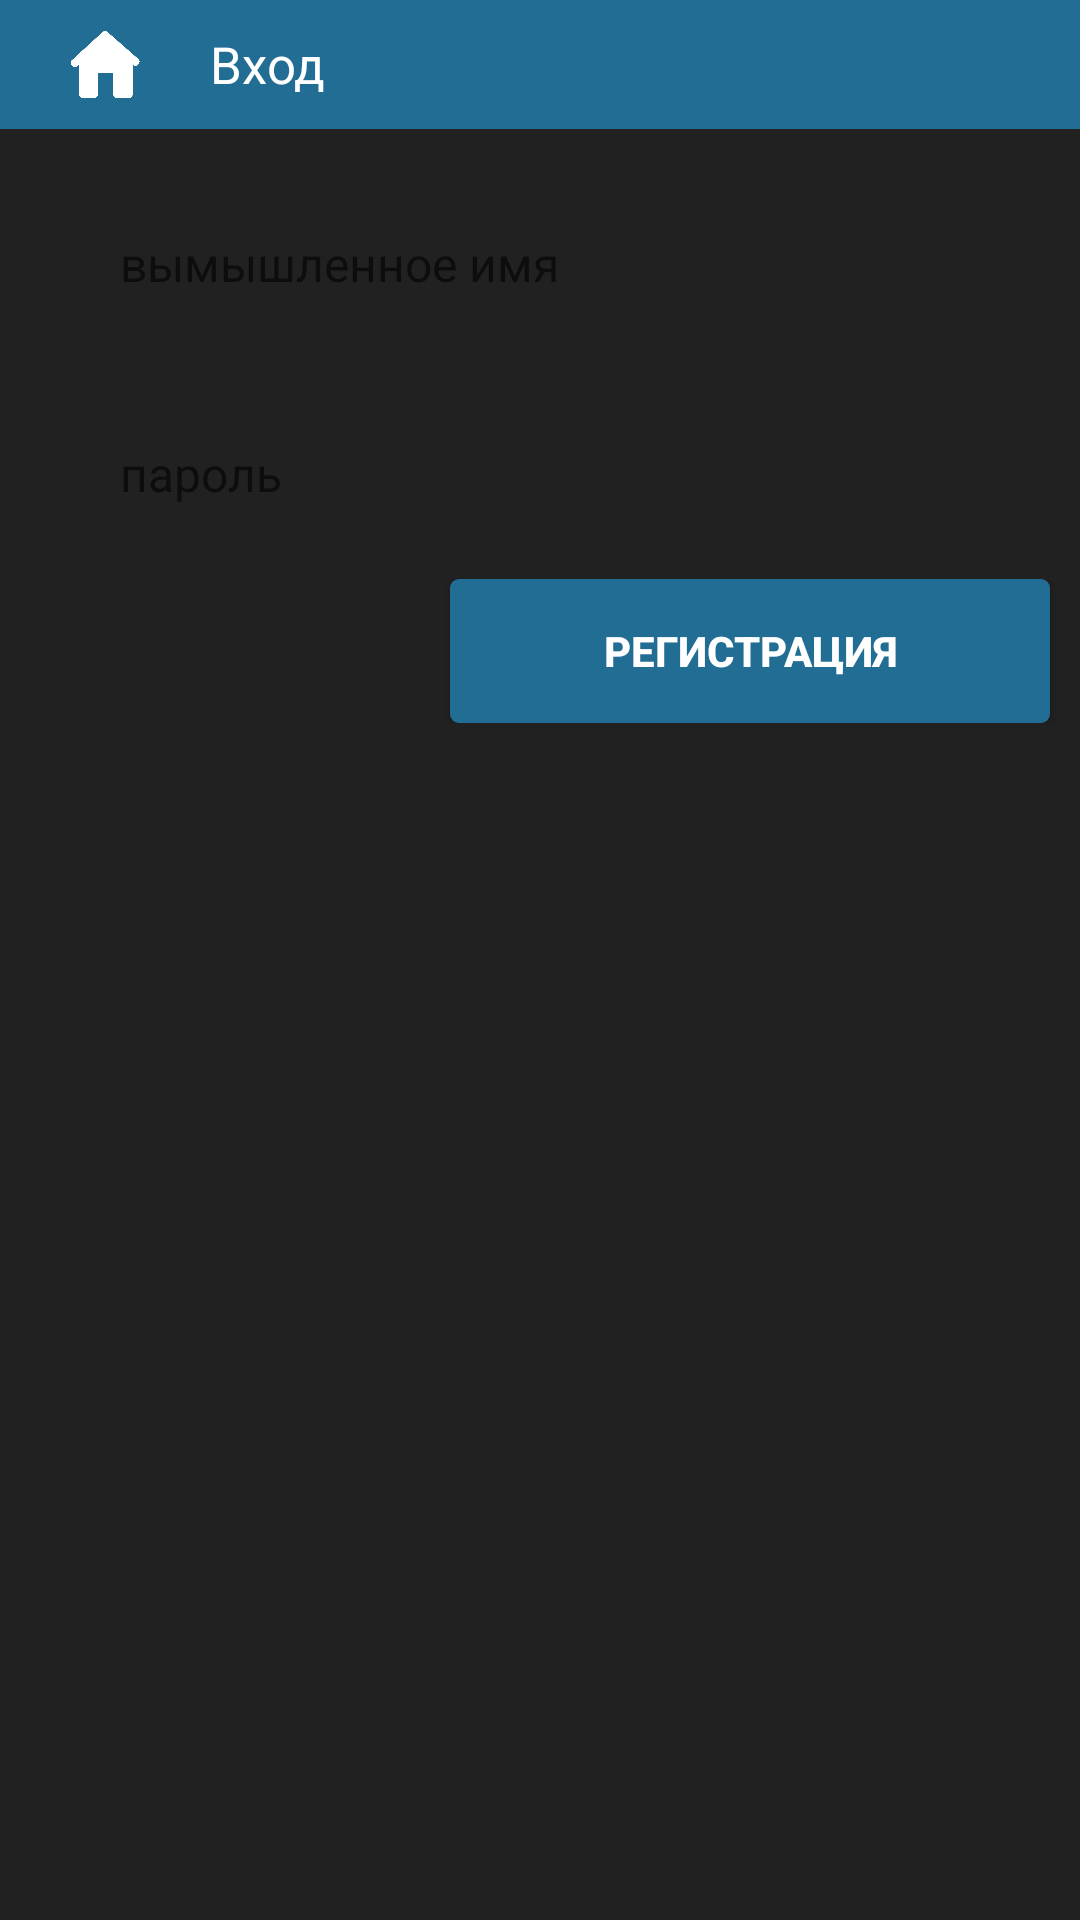

Screen size 1080w x 1920h. Icon name, then its center in pixels as point (x, y):
house: point (105, 64)
